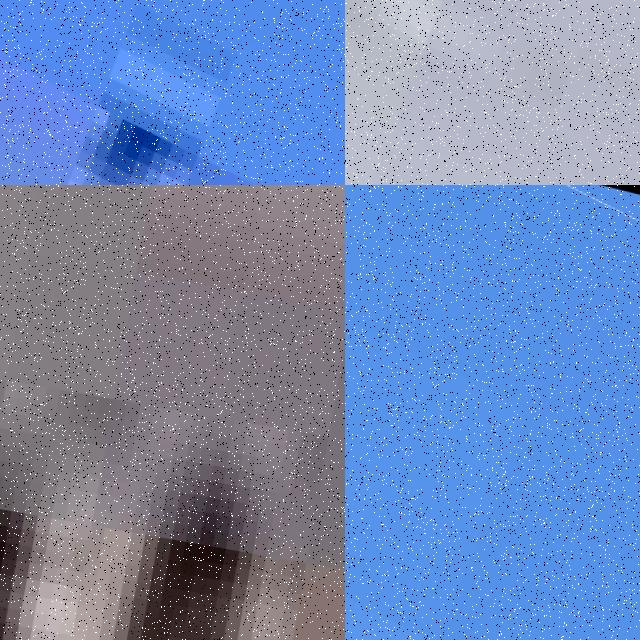0: (345, 185, 640, 640), (0, 0, 345, 185)
drone: (345, 0, 640, 185)
